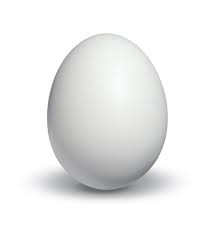eggs: (44, 32, 173, 198)
